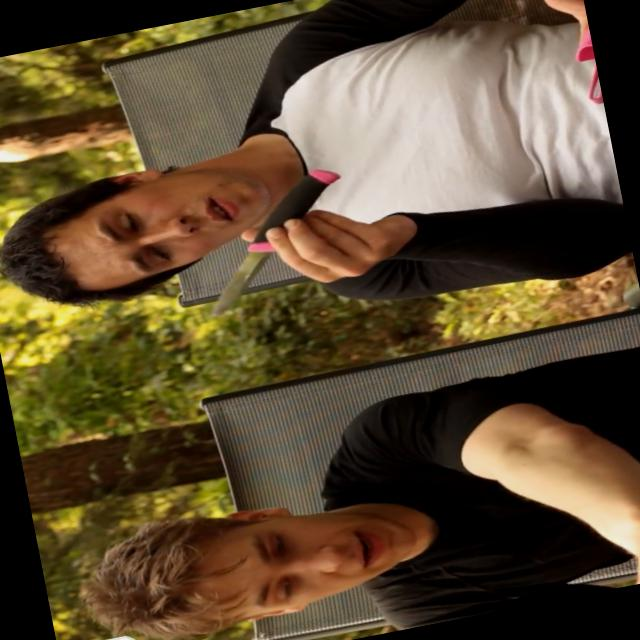knife: (168, 158, 366, 330)
